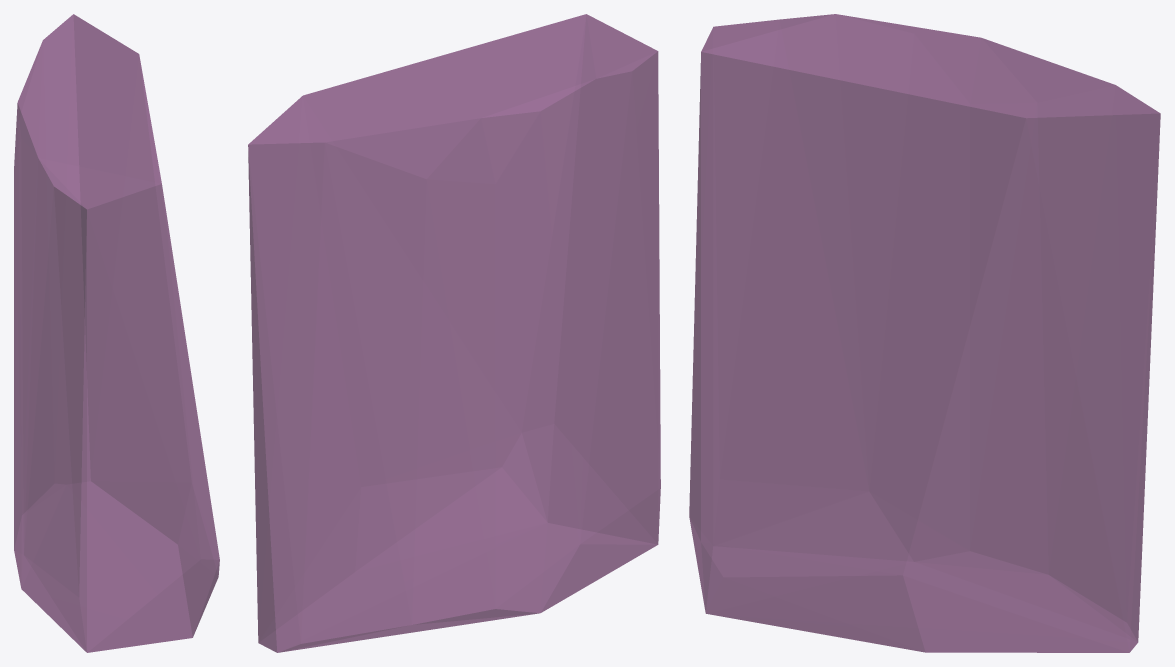
The picture shows the model from 3 angles, left to right: view 1: azimuth 30°, elevation 25°; view 2: azimuth 150°, elevation 25°; view 3: azimuth 270°, elevation 25°; orthographic projection. The views are drawn at different scales.
Parts seen in each view (by area): view 1: Shape_IndexedFaceSet.024_Shape_IndexedFaceSet.1989; view 2: Shape_IndexedFaceSet.024_Shape_IndexedFaceSet.1989; view 3: Shape_IndexedFaceSet.024_Shape_IndexedFaceSet.1989.
Boxes of the visible parts, x1,y1,x2,y2 form: Shape_IndexedFaceSet.024_Shape_IndexedFaceSet.1989: [14, 14, 219, 652]; Shape_IndexedFaceSet.024_Shape_IndexedFaceSet.1989: [248, 14, 660, 652]; Shape_IndexedFaceSet.024_Shape_IndexedFaceSet.1989: [689, 14, 1160, 652].
Bounding box in the file's own units: 0.1225 × 0.2843 × 0.2237.
